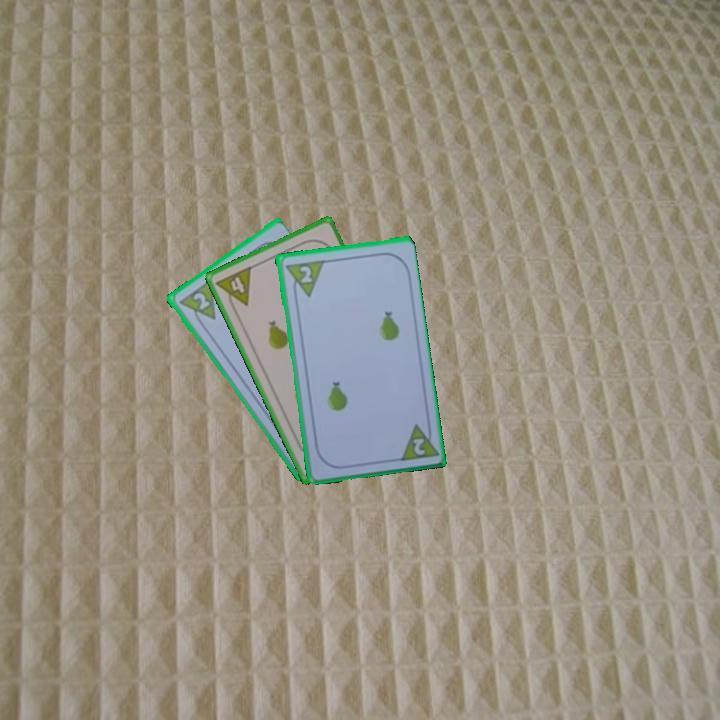2p: (174, 277, 218, 330), (395, 418, 439, 464), (296, 262, 315, 286)
4p: (212, 262, 254, 314)
